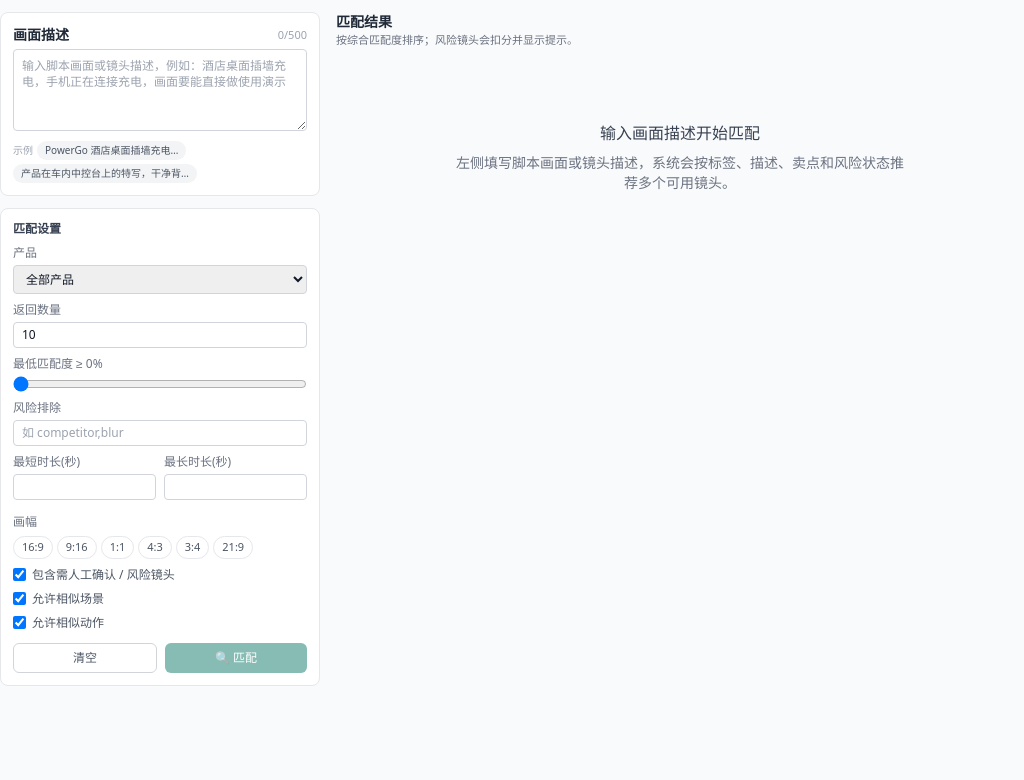
Scenario: DescriptionMatchView › 匹配失败显示错误态
The image size is (1024, 780).
Type "x" into the text box with test id "desc-input" at x=160, y=90, box [13, 49, 307, 131]
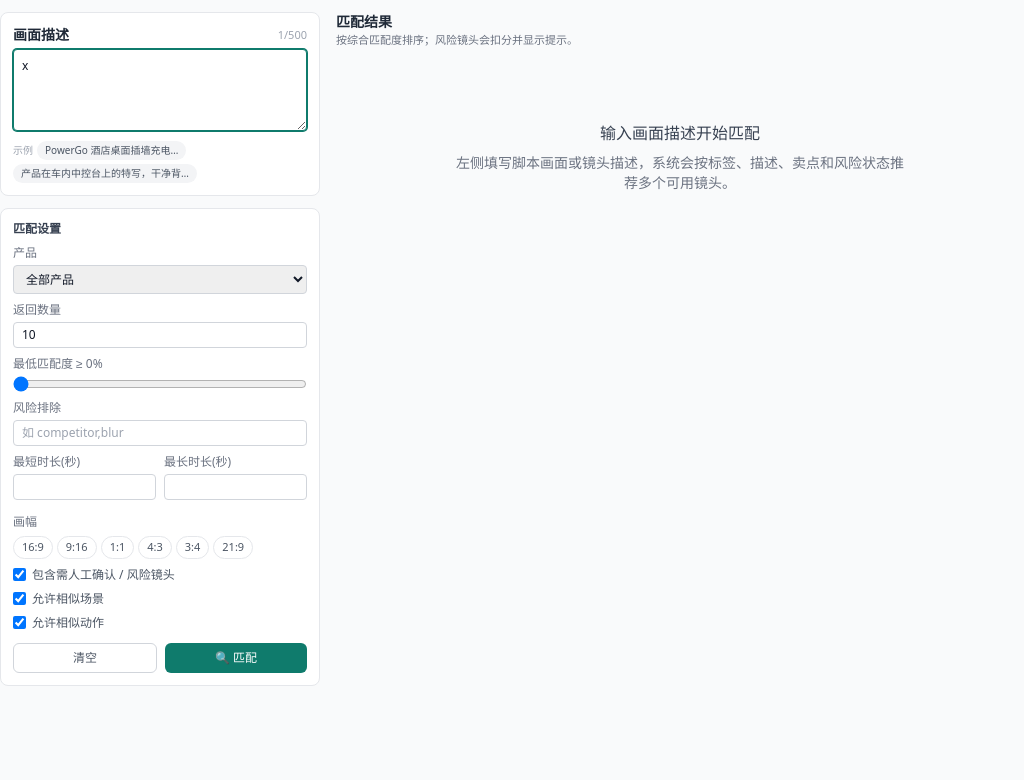
Click the button with test id "desc-match" at x=236, y=658, box [165, 642, 307, 672]
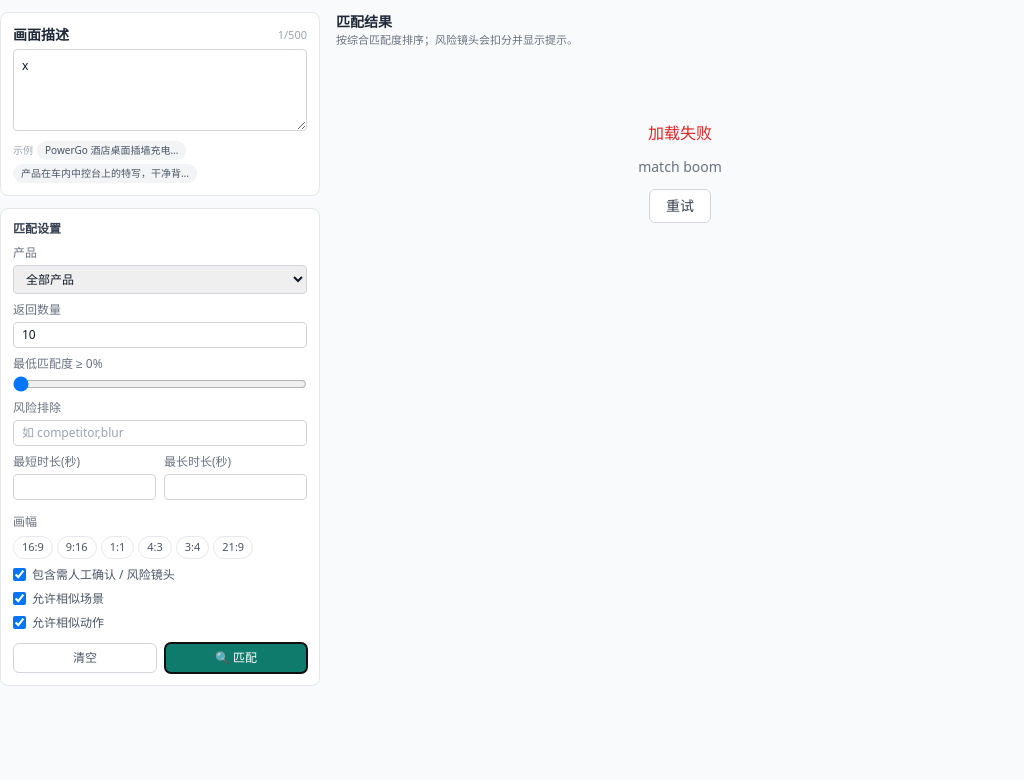
Result: the element with test id "error" is shown at [638, 122, 722, 222]
Result: the text "match boom" is shown at [638, 156, 722, 176]
